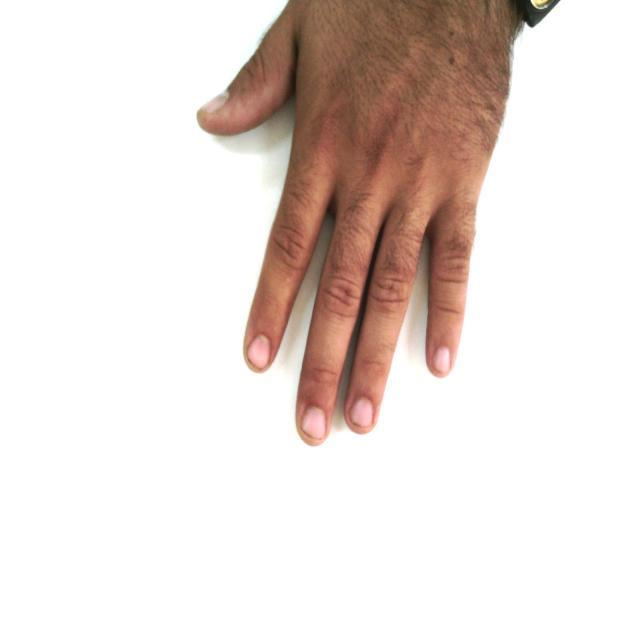Fingernail: (303, 407, 326, 438), (349, 399, 373, 427), (249, 337, 270, 368), (200, 95, 227, 115), (435, 347, 450, 373)
